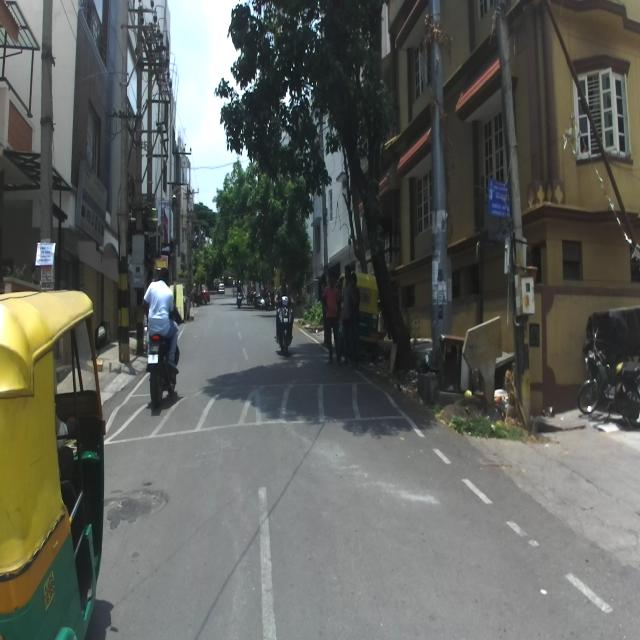auto ahead at: (0, 285, 111, 640)
motorcycle ahead at: (140, 327, 184, 415), (270, 310, 300, 359)
zebra crossing ahead at: (116, 373, 400, 437)
